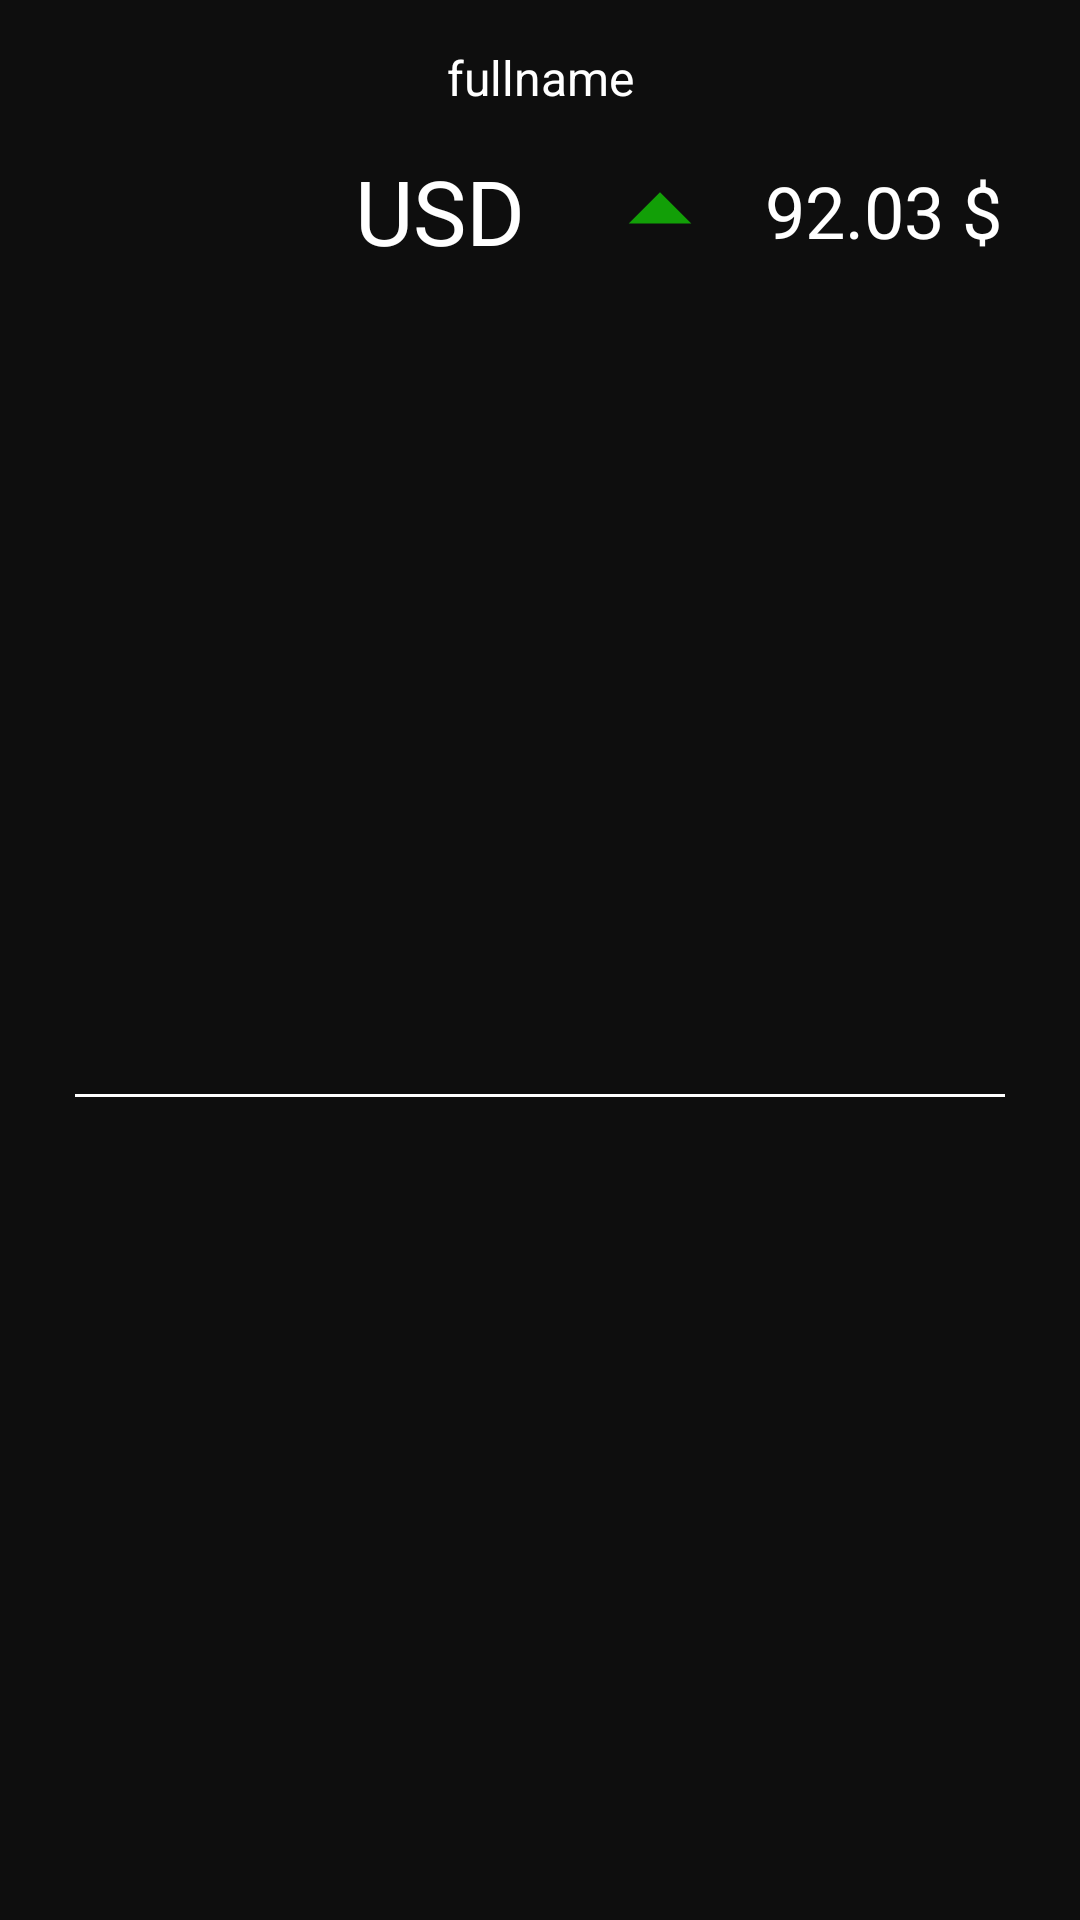

Named icons in this screenshot (1080×1920) and their bounding boxes, (x1, y1, x2, y2):
arrow up: (629, 192, 691, 224)
